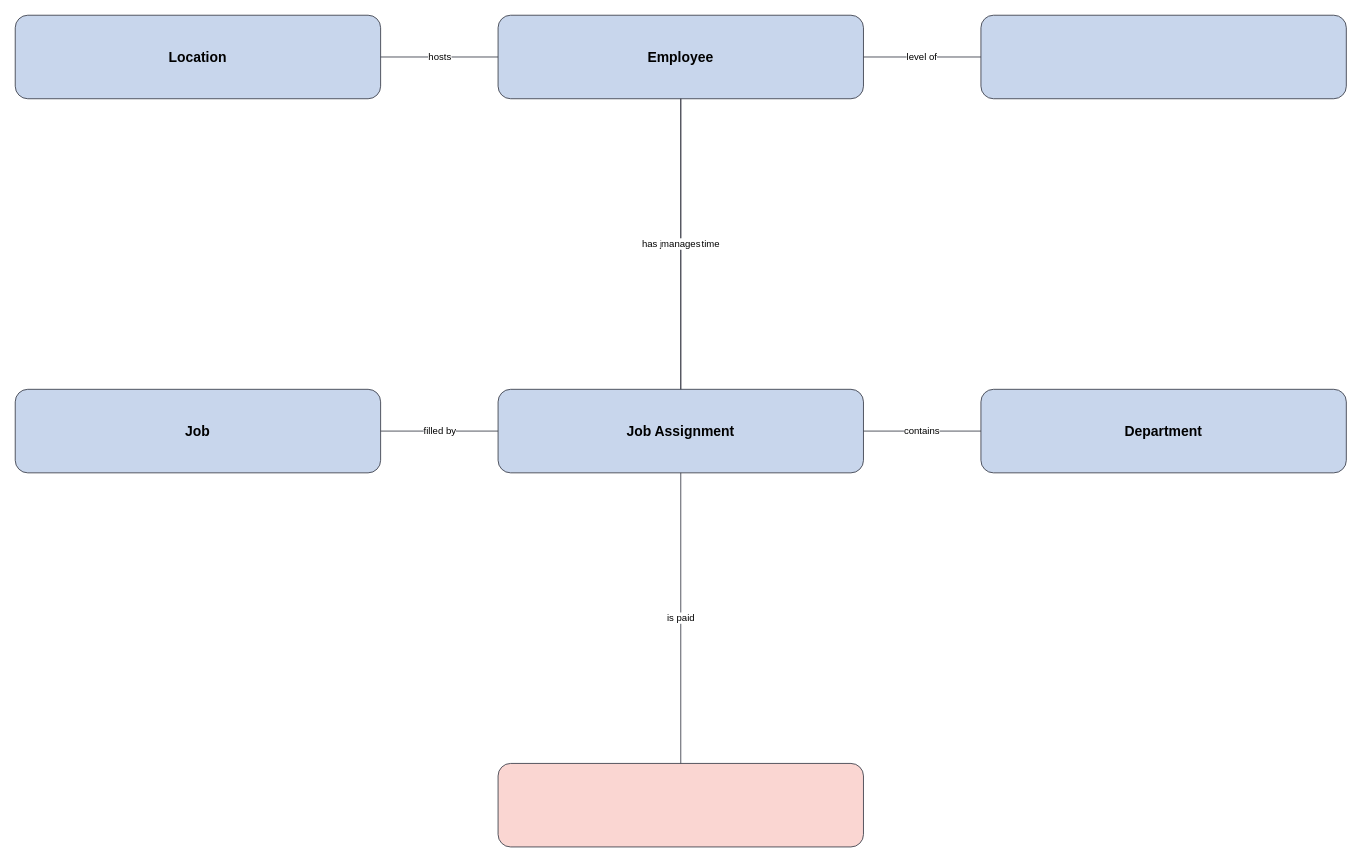
Image size: 1362x862. Some labels were removed from this diagram. The shapes that lost their labels are listed below. From the top down, each one's centre as x and y in pixels, then its label:
At (1163,56): "Education Level".
At (680,805): "Salary (Restricted)".
